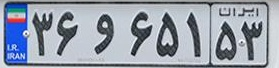character: (54, 8, 82, 60), (90, 9, 118, 59), (154, 9, 181, 59), (127, 10, 154, 58), (30, 8, 54, 60), (182, 8, 204, 59), (214, 19, 239, 62), (241, 18, 265, 62)
